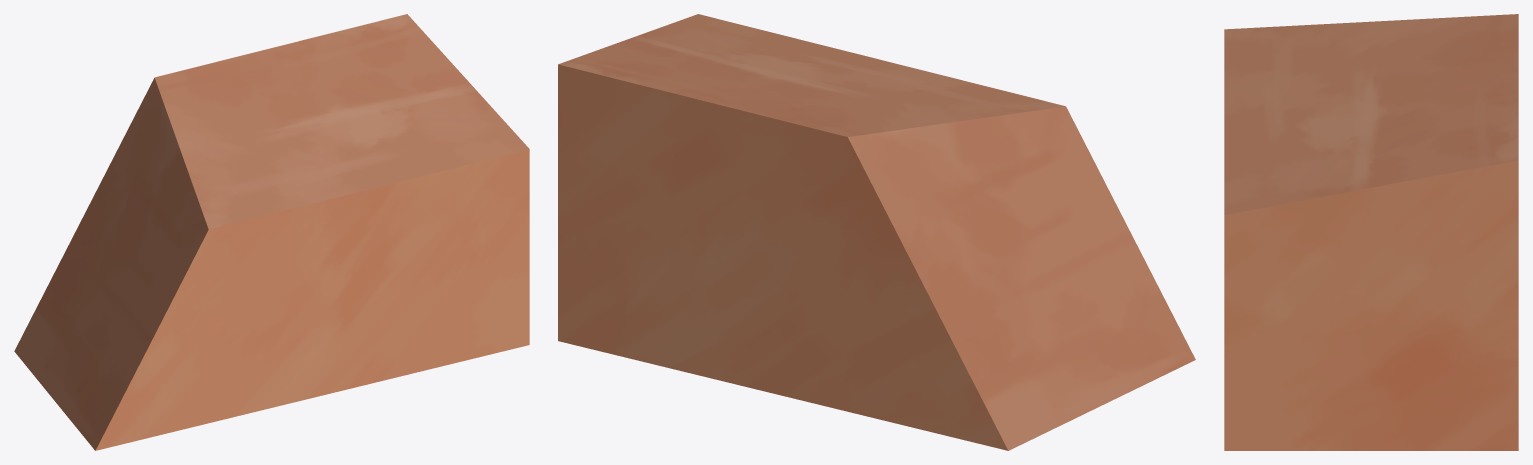
Rendered from parapet_plain_s02.fbx.
3 views of the same model, side by side, from view 1: azimuth 30°, elevation 25°; view 2: azimuth 150°, elevation 25°; view 3: azimuth 270°, elevation 25° (orthographic). The views are drawn at different scales.
Parts seen in each view (by area): view 1: parapet_plain_s02; view 2: parapet_plain_s02; view 3: parapet_plain_s02.
Part boxes in pixels (x1,y1,x2,y2): parapet_plain_s02: [14, 14, 529, 450]; parapet_plain_s02: [558, 14, 1195, 450]; parapet_plain_s02: [1224, 14, 1518, 450].
Bounding box in the file's own units: 2.05 × 1.09 × 1.
